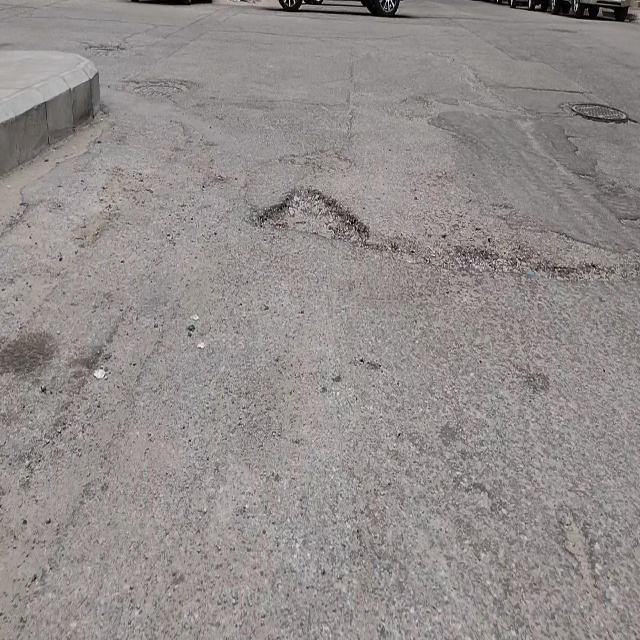pothole: (254, 180, 372, 250)
